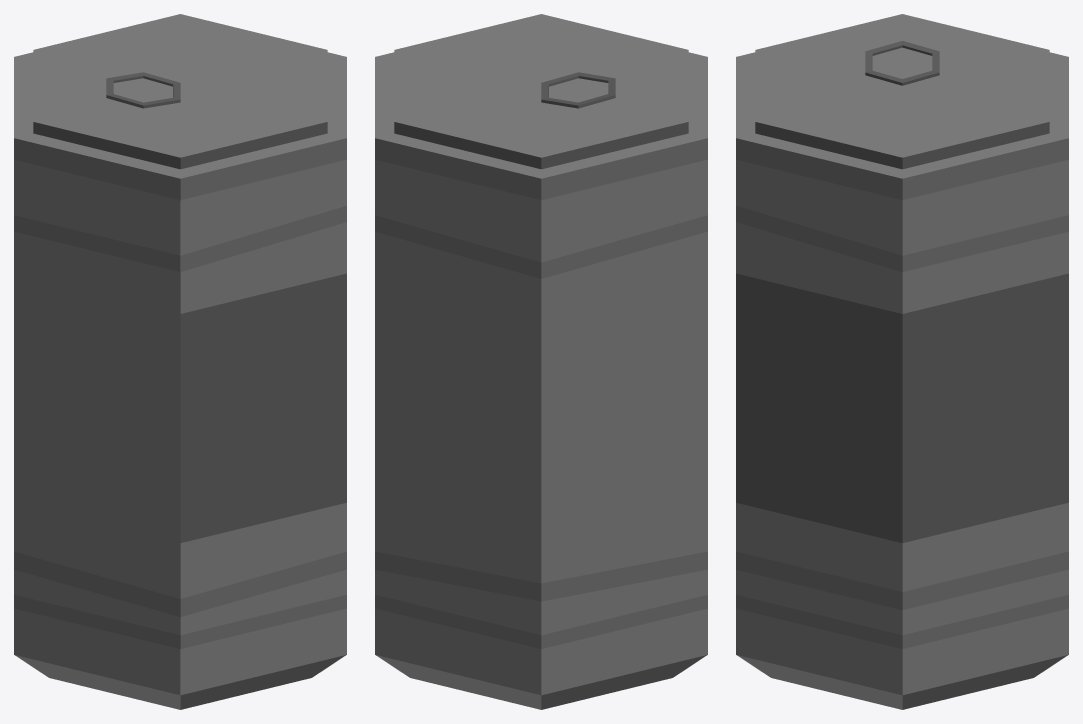
Rendered from model_food_can.fbx.
The picture shows the model from 3 angles, left to right: view 1: azimuth 30°, elevation 25°; view 2: azimuth 150°, elevation 25°; view 3: azimuth 270°, elevation 25°; orthographic projection.
Parts seen in each view (by area): view 1: model_food_can, lid; view 2: model_food_can, lid; view 3: model_food_can, lid.
Boxes of the visible parts, x1,y1,x2,y2 form: model_food_can: (14,52,346,709); lid: (33,14,327,169); model_food_can: (375,52,707,709); lid: (394,14,688,169); model_food_can: (736,52,1068,709); lid: (755,14,1049,169).
Bounding box in the file's own units: 12.75 × 20.82 × 11.04.
1 material, 1 textured.
